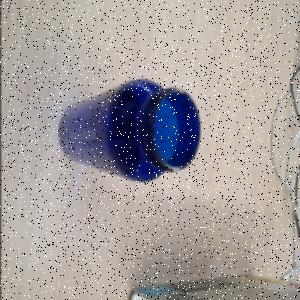Plastic-bottle: (58, 78, 202, 185)
